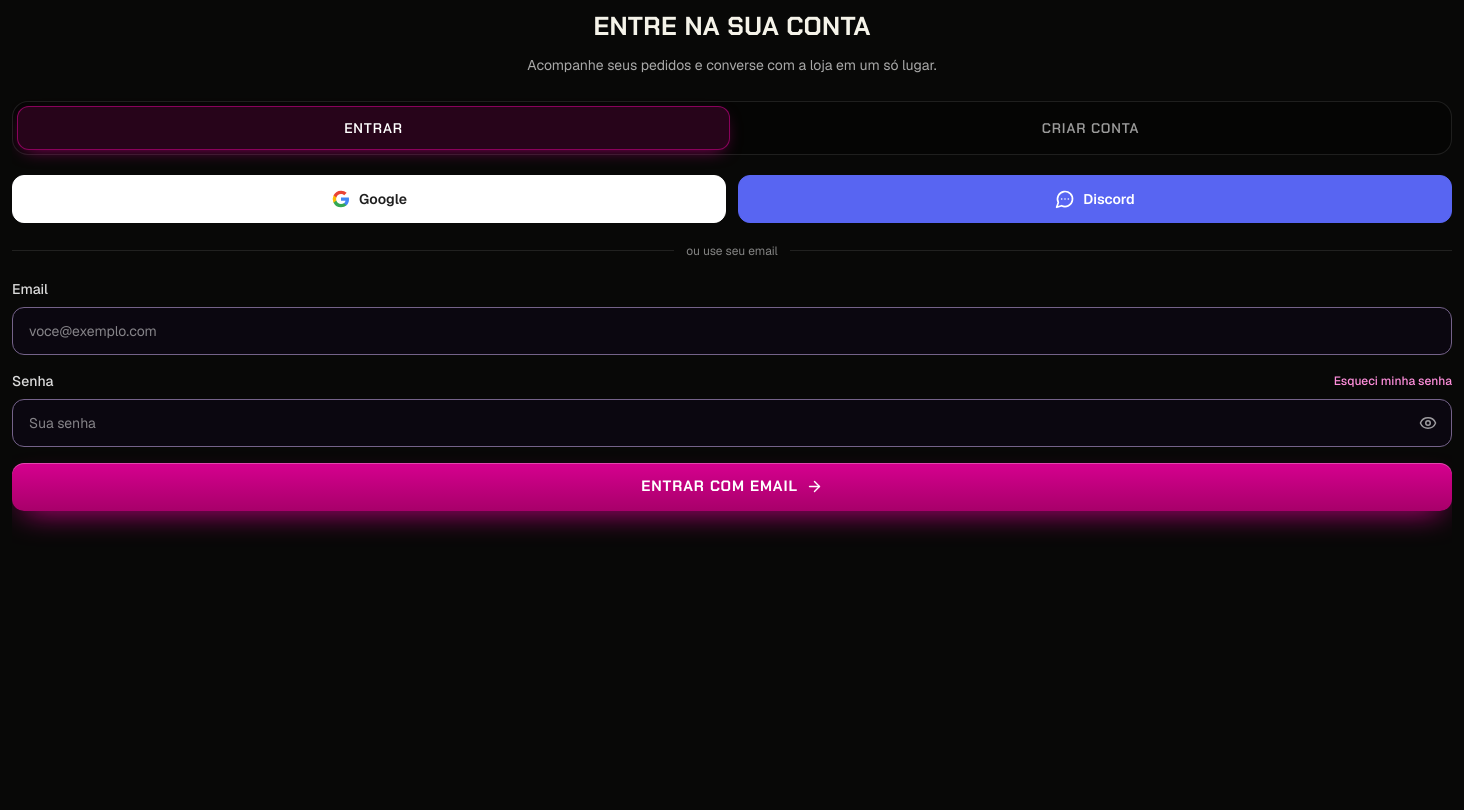
Test: acesso do cliente por Google, Discord e email › impede novo envio e troca de modo enquanto o servidor responde
Step 1. Type "ana@example.com" into the field labelled "Email" → (732, 331), box [12,307,1452,355]
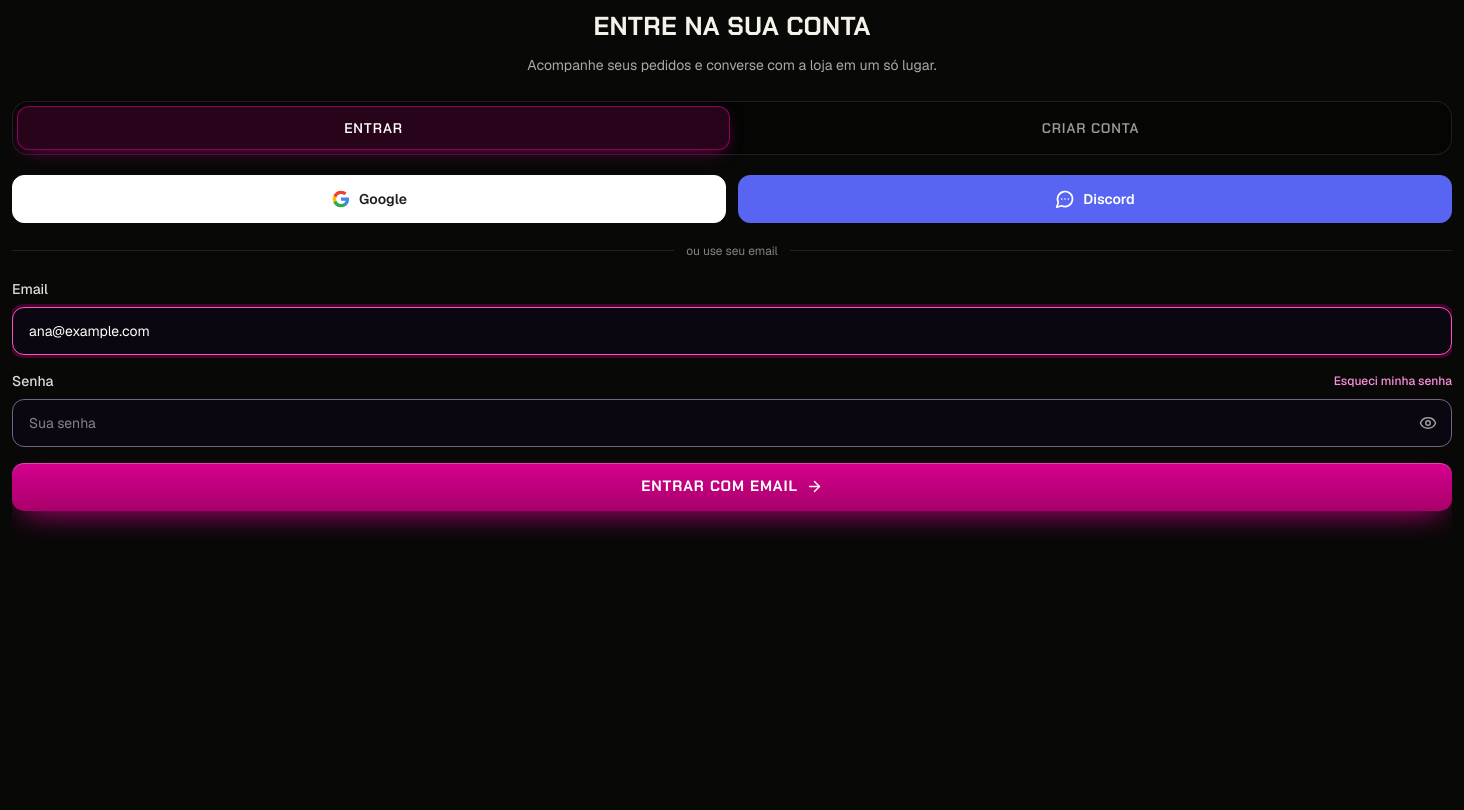
Step 2. Type "SenhaAtual" into the password field labelled "Senha" → (732, 423), box [12,399,1452,447]
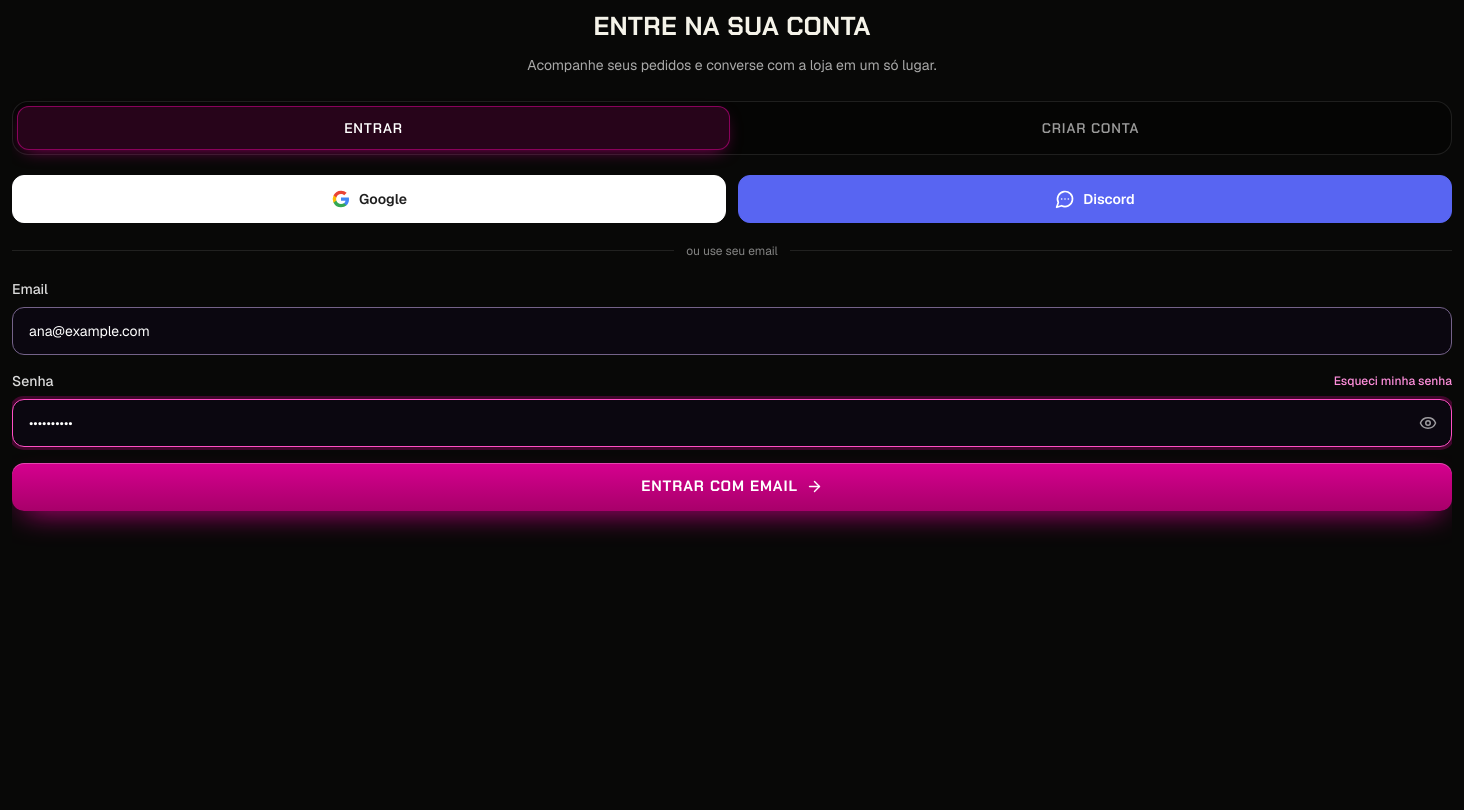
Step 3. Click the button "Entrar com email" → (732, 487), box [12,463,1452,511]
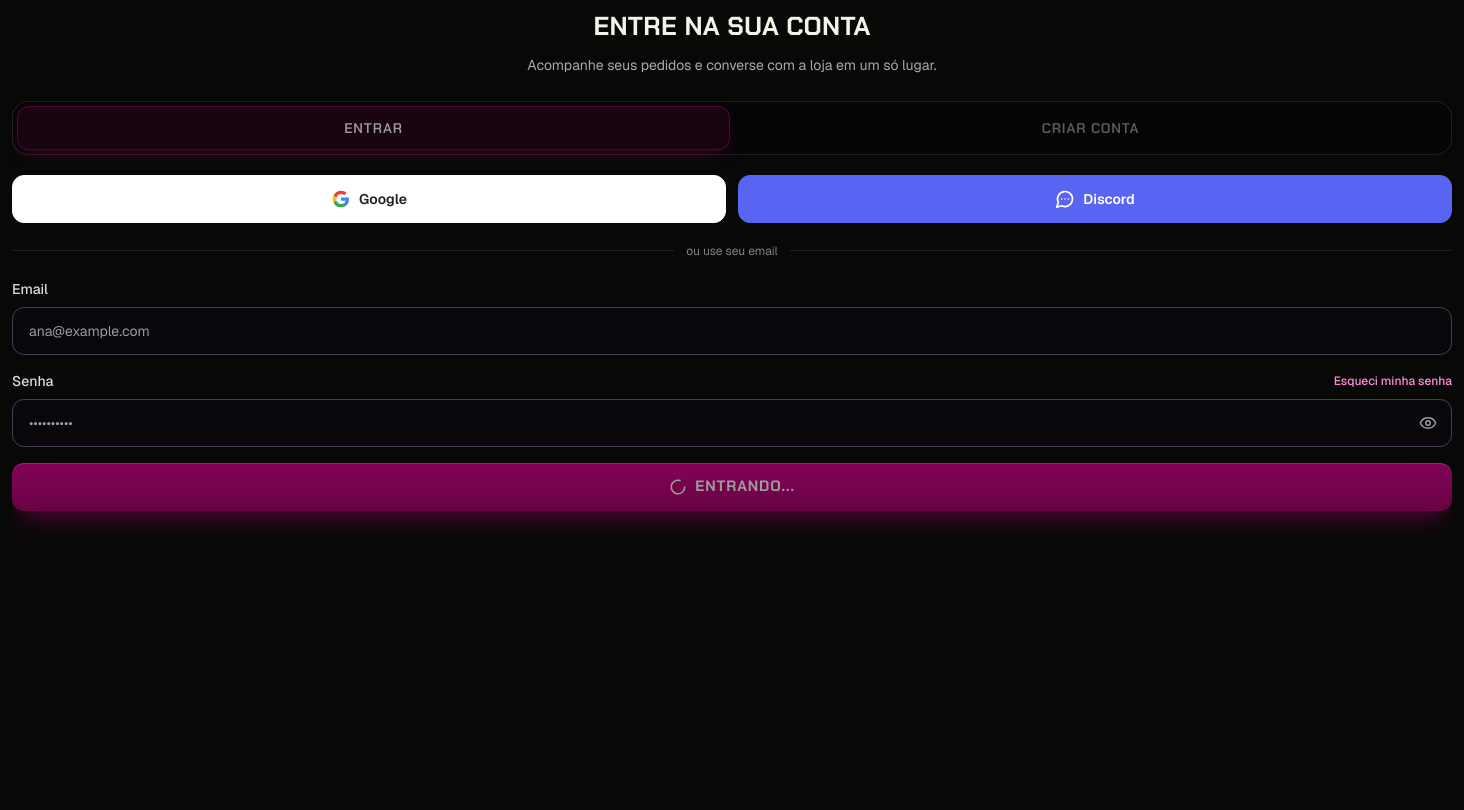
Expected: the field labelled "Email" is disabled, [12,307,1452,355]
Expected: the button "Entrando..." is disabled
Expected: the tab "Criar conta" is disabled, [734,106,1447,150]
Step 4. Click the button "Entrando..." → (732, 487), box [12,463,1452,511]
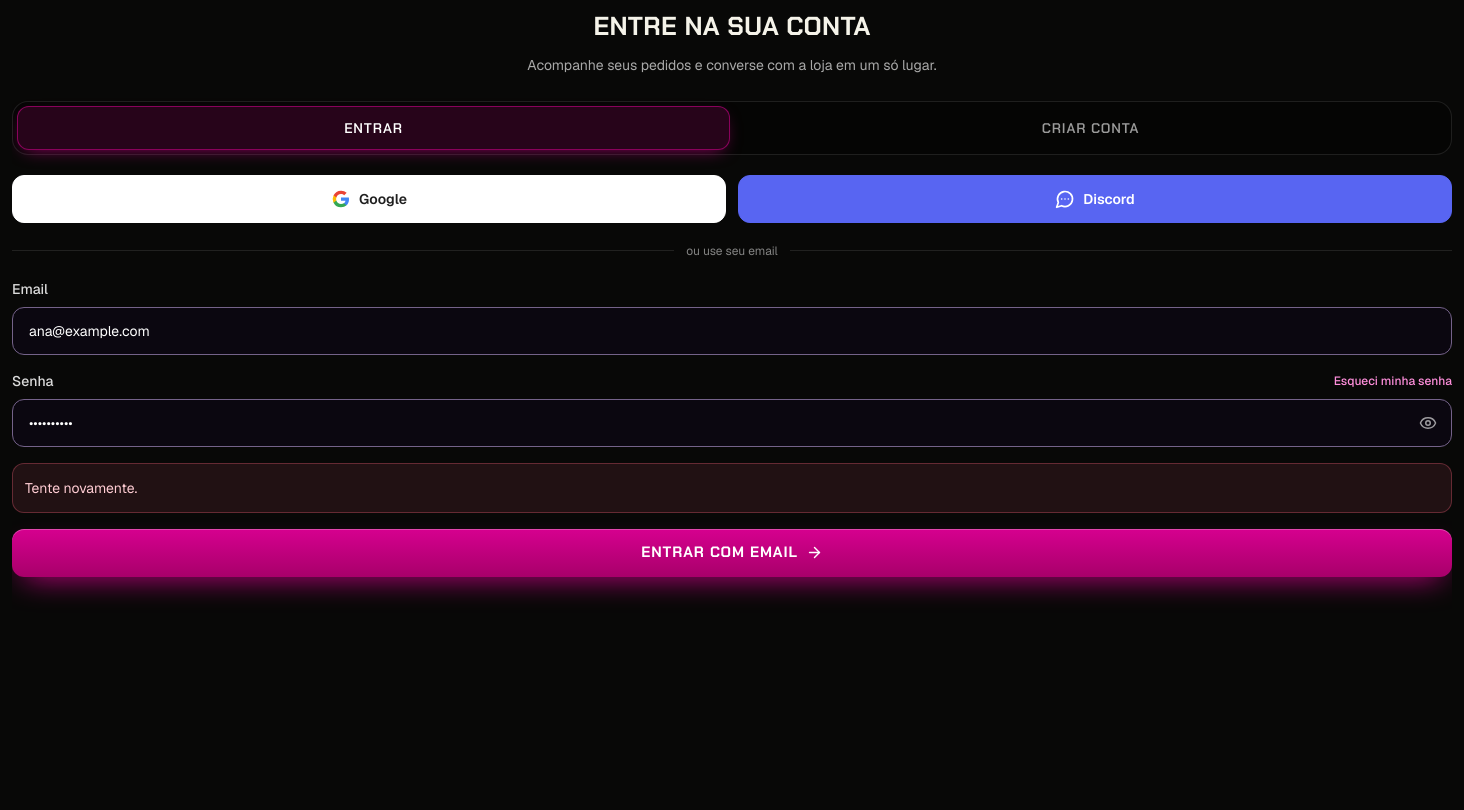
Expected: the button "Entrar com email" is enabled, [12,529,1452,577]
